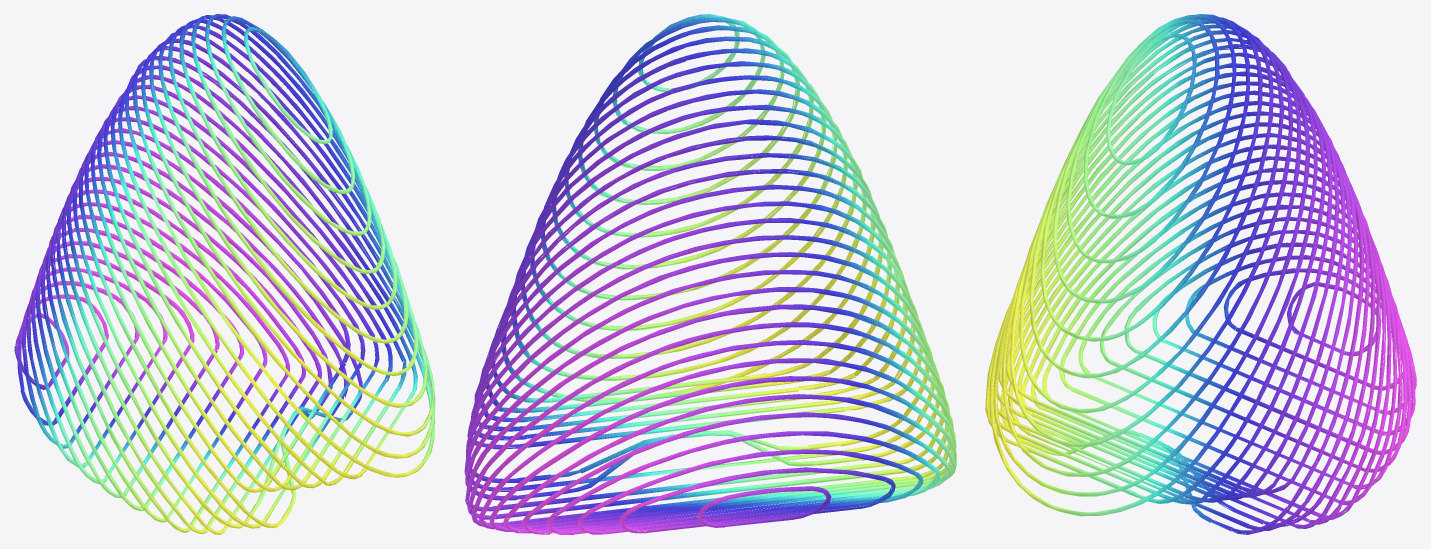
File: 8-THE_FINGER_DOME-Digital_Topographies_08.glb
3 views of the same model, side by side, from view 1: azimuth 30°, elevation 25°; view 2: azimuth 150°, elevation 25°; view 3: azimuth 270°, elevation 25° (orthographic). The views are drawn at different scales.
Visible parts, largest first — view 1: pipe4; view 2: pipe4; view 3: pipe4.
Part boxes in pixels (x1=…): pipe4: x1=14, y1=14, x2=435, y2=534; pipe4: x1=464, y1=14, x2=956, y2=534; pipe4: x1=985, y1=14, x2=1416, y2=534.
Size of what is drawn, in the model's own units: 31.54 by 35.21 by 31.52.
Materials: 1 (1 with a texture image).
